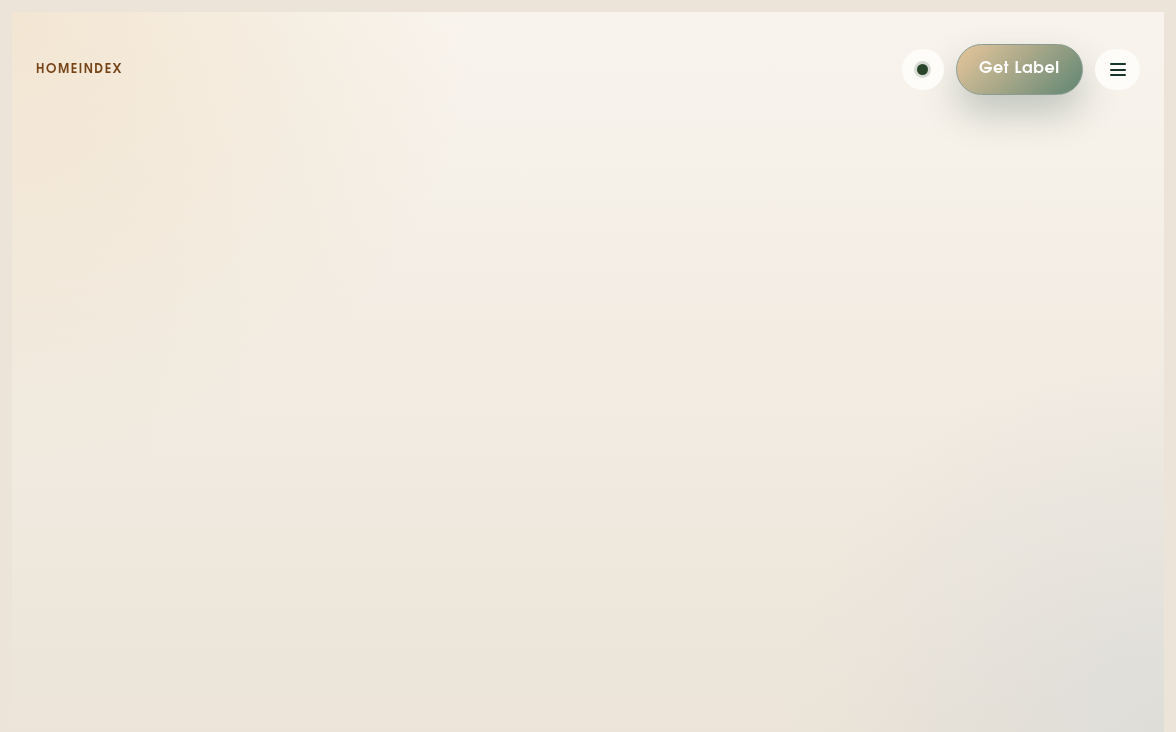
Test: layout header › closes the hamburger menu after a navigation item is clicked
Click the button with class "site-menu-toggle". click: [1118, 70]
box: [1095,49,1140,90]
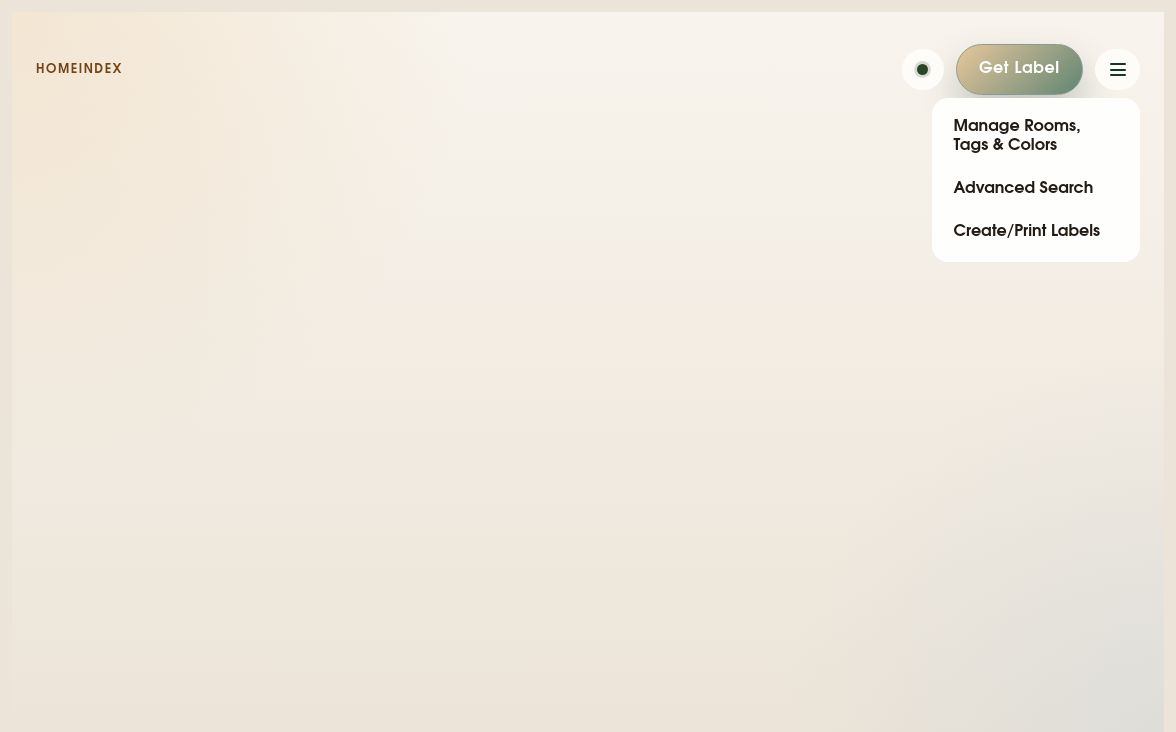
Click the link "Advanced Search". click: [1023, 190]
box: [954,182,1093,198]
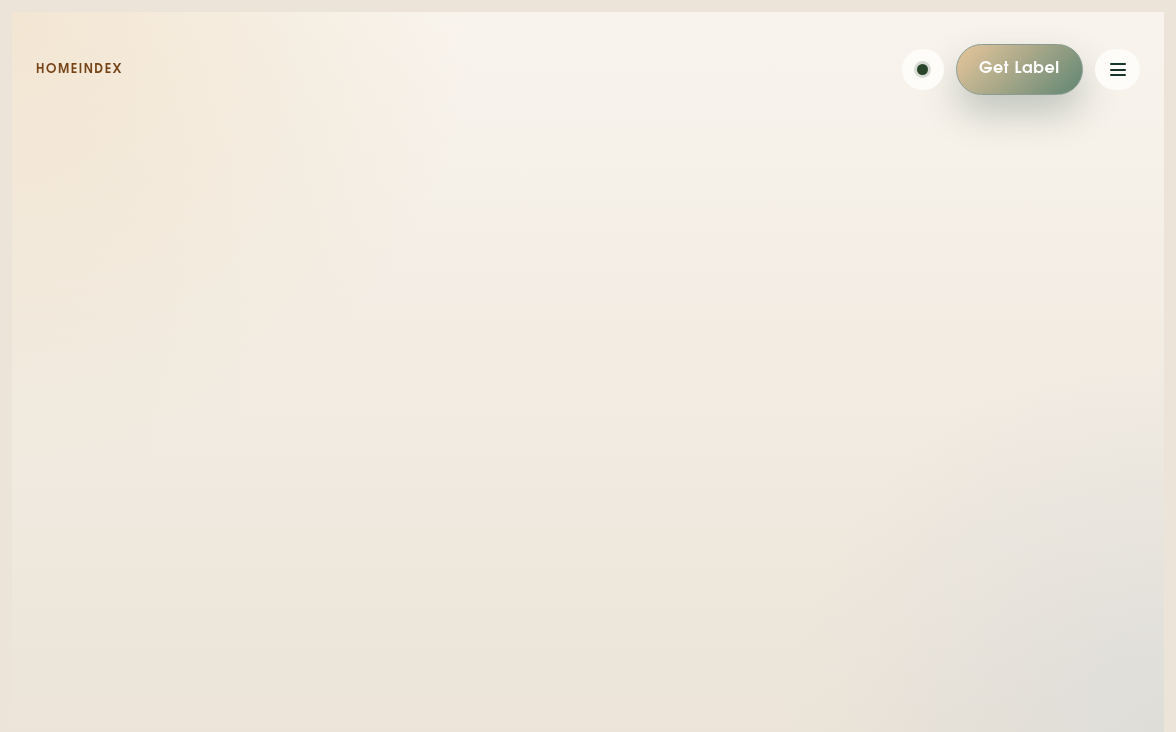
Expected: the element with class "site-menu-panel" is gone
